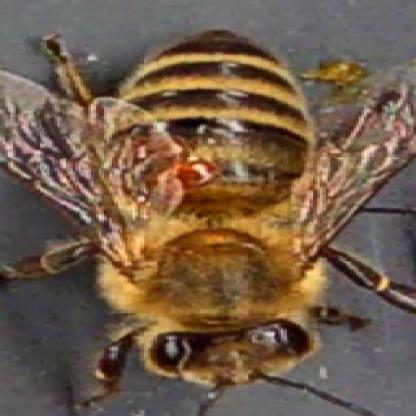bee: (100, 28, 322, 378)
vaoora: (130, 140, 176, 158), (179, 166, 213, 186)
